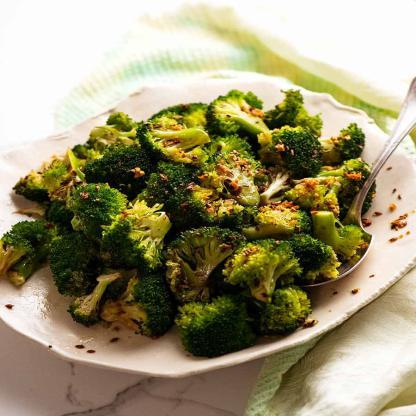broccoli: (0, 86, 382, 359)
